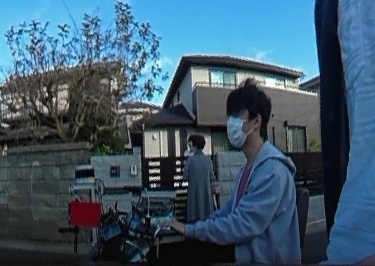person: (178, 75, 299, 266), (178, 130, 211, 214)
